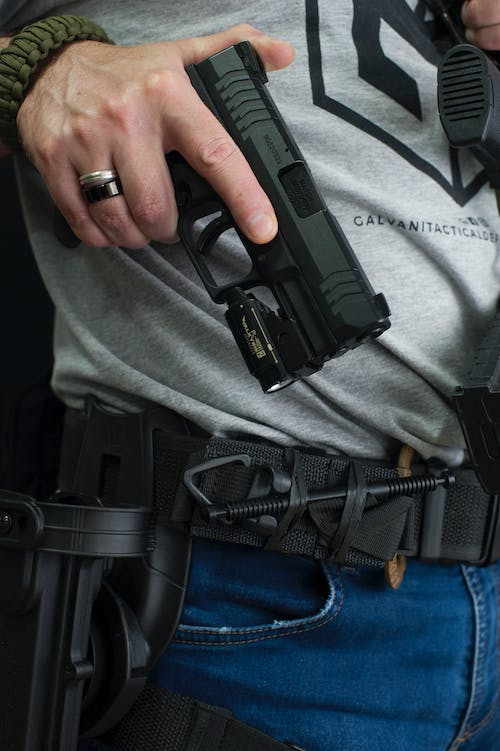gun: (44, 38, 397, 401), (431, 40, 500, 176)
